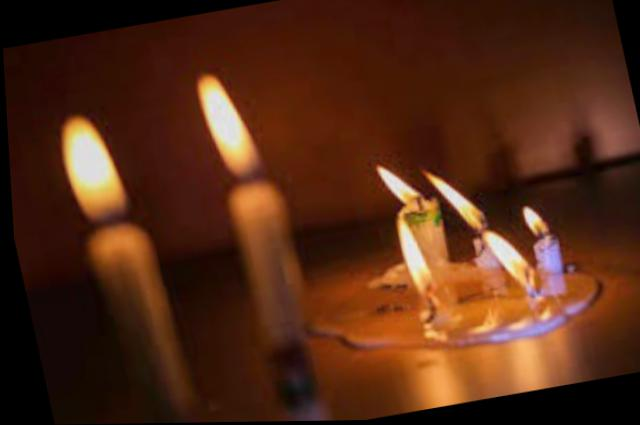fire: (175, 61, 282, 195), (50, 104, 138, 228), (416, 155, 498, 244), (476, 226, 543, 295), (364, 152, 432, 211), (510, 196, 572, 242)
